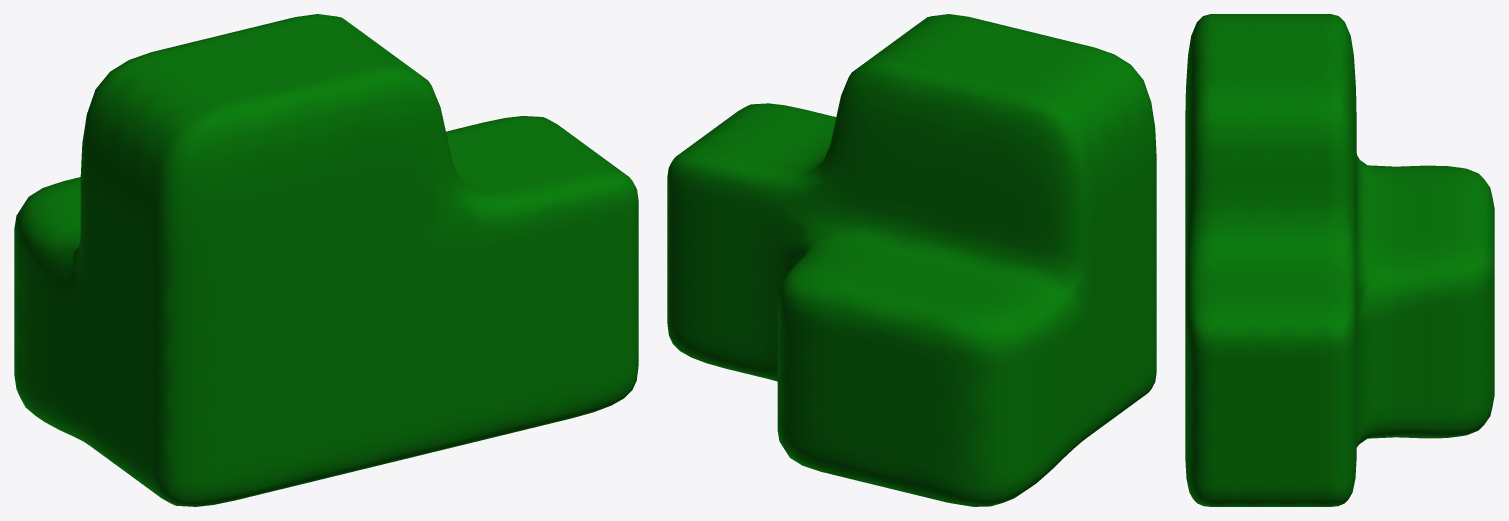
The model's file is bush.fbx.
3 renders of one model, left to right at view 1: azimuth 30°, elevation 25°; view 2: azimuth 150°, elevation 25°; view 3: azimuth 270°, elevation 25°, orthographic. The views are drawn at different scales.
Visible parts, largest first — view 1: Cube; view 2: Cube; view 3: Cube.
Part boxes in pixels (x1,y1,x2,y2): Cube: (14, 14, 638, 506); Cube: (667, 14, 1156, 506); Cube: (1185, 14, 1494, 506).
Bounding box in the file's own units: 2.04 × 1.65 × 1.36.
